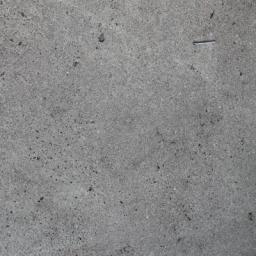FOD: (192, 38, 221, 49)
